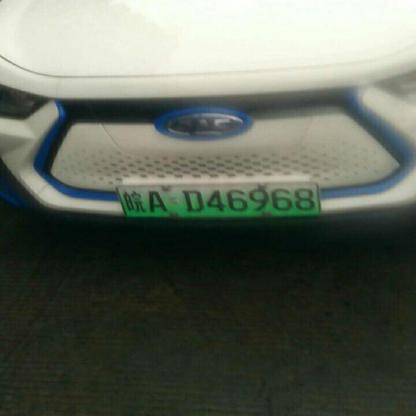lp: (117, 183, 318, 215)
